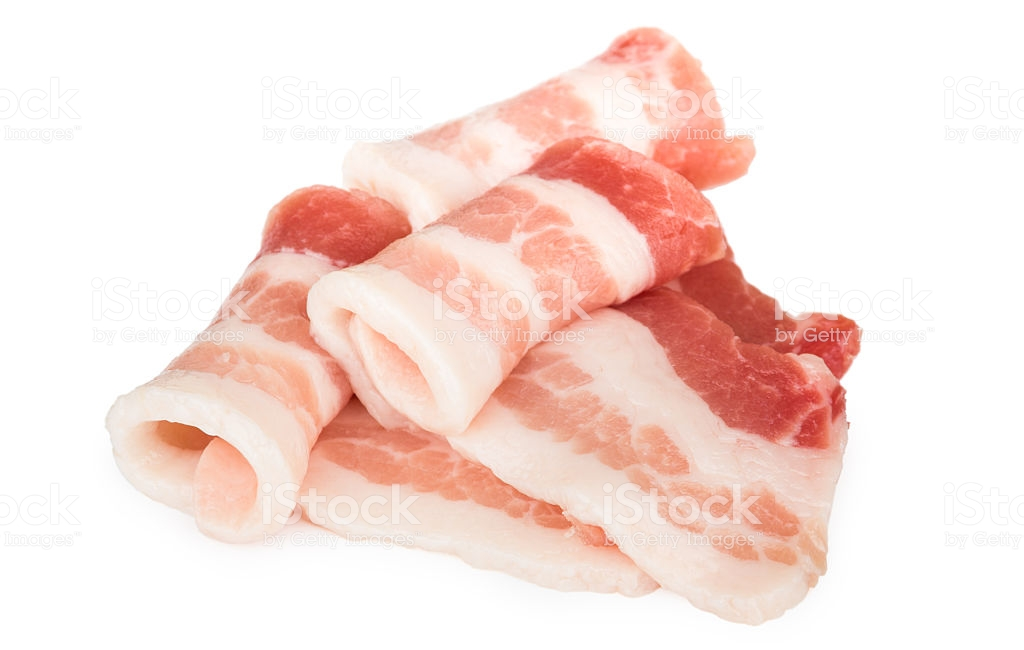bacon: (132, 33, 885, 626)
